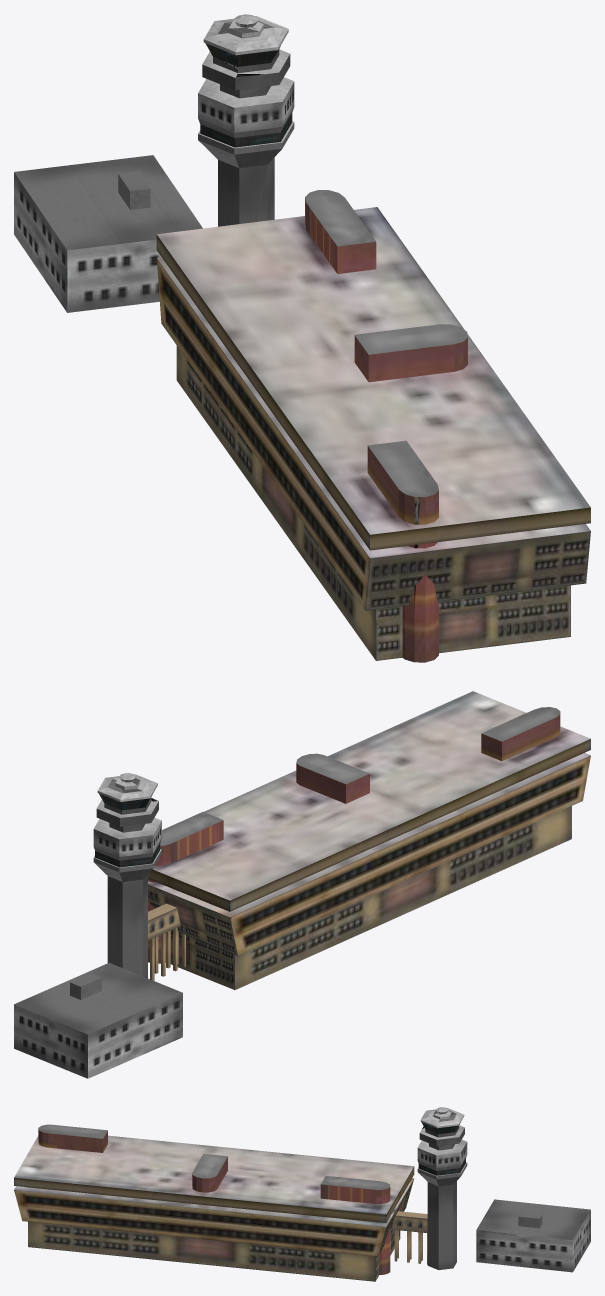
Rendered from vidp_atcgp1.glb.
The picture shows the model from 3 angles, top to bottom: view 1: azimuth 30°, elevation 25°; view 2: azimuth 150°, elevation 25°; view 3: azimuth 270°, elevation 25°; orthographic projection. The views are drawn at different scales.
Parts seen in each view (by area): view 1: XCNATC1, XCNATCB; view 2: XCNATC1, XCNATCB, XNATCC; view 3: XCNATC1, XCNATCB, XNATCC.
Boxes of the visible parts, x1,y1,x2,y2 form: XCNATC1: [156, 190, 590, 662]; XCNATCB: [14, 14, 294, 312]; XCNATC1: [148, 691, 590, 989]; XCNATCB: [14, 773, 182, 1078]; XNATCC: [148, 903, 185, 980]; XCNATC1: [14, 1124, 414, 1281]; XCNATCB: [417, 1107, 590, 1272]; XNATCC: [392, 1211, 427, 1264].
Size of the model in its own units: 57.12 by 48.82 by 162.
3 materials, 3 textured.
